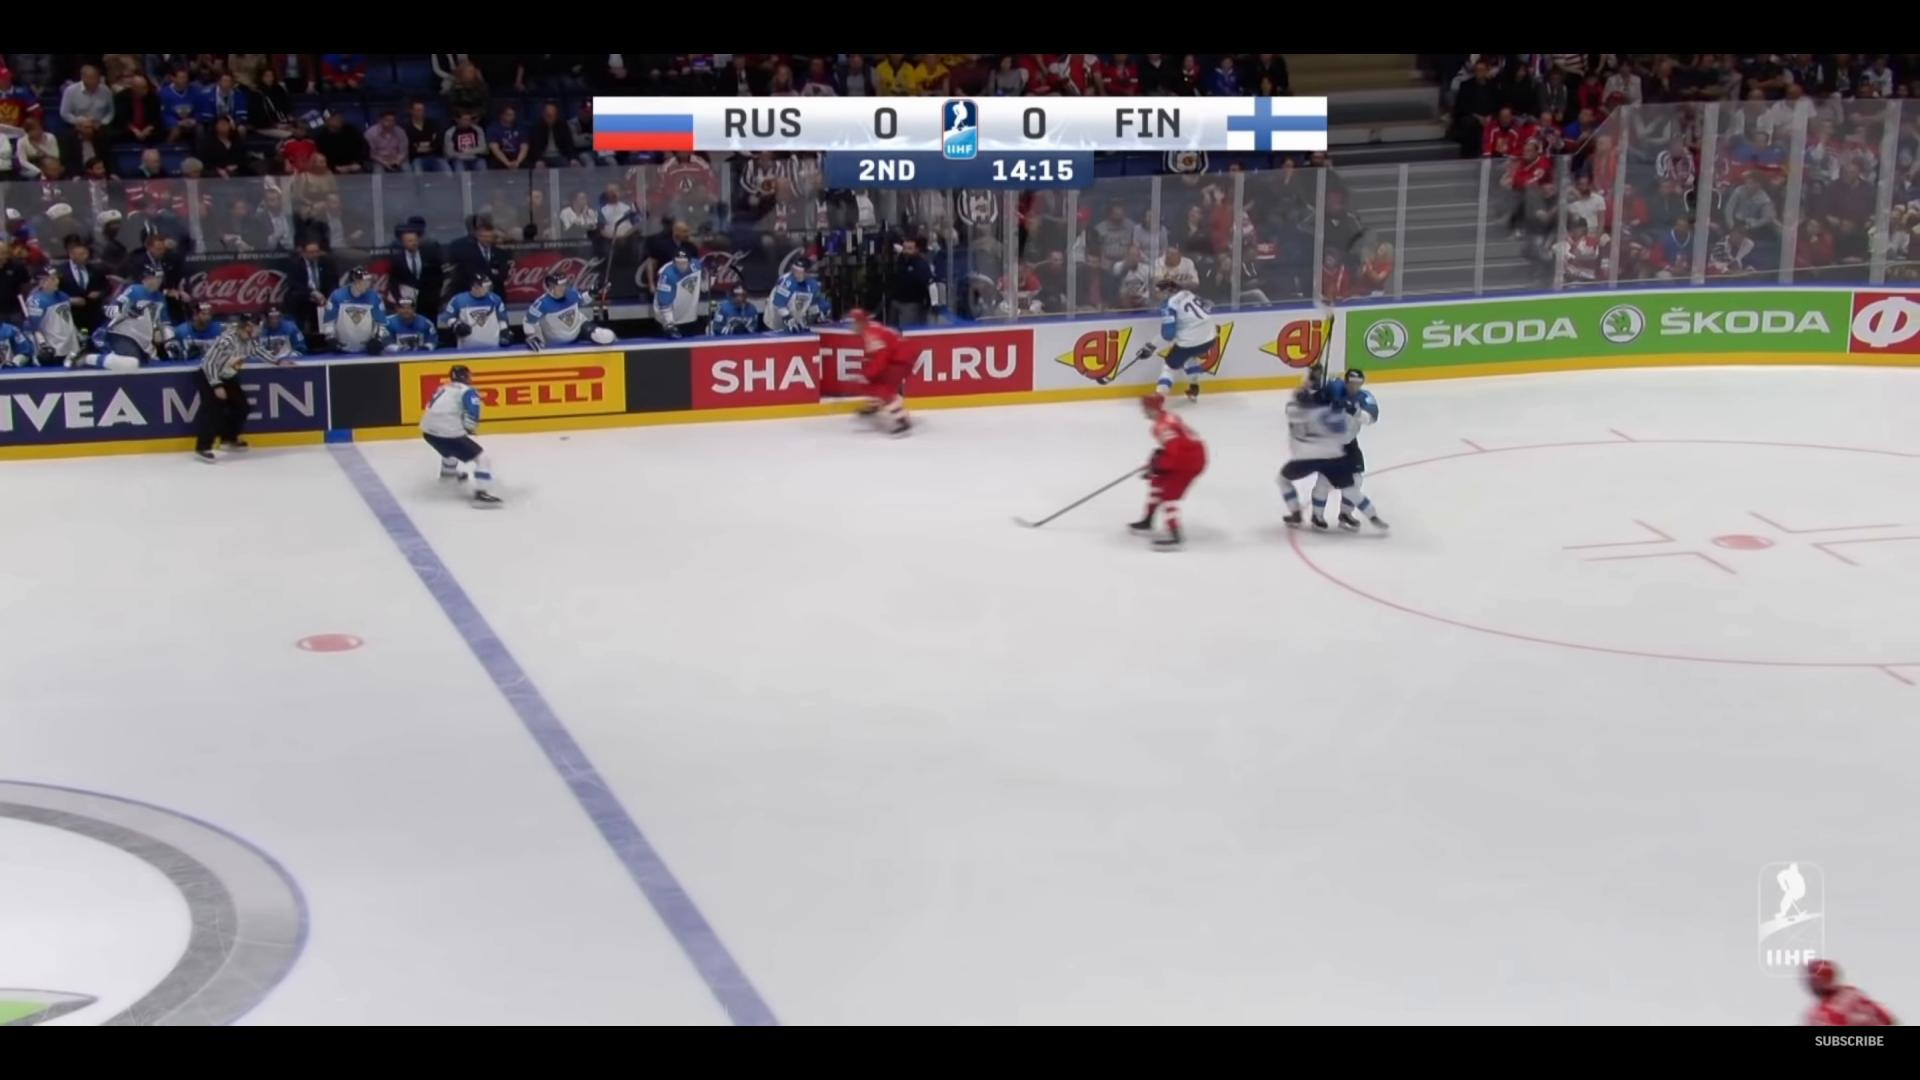puck: (558, 435, 570, 440)
